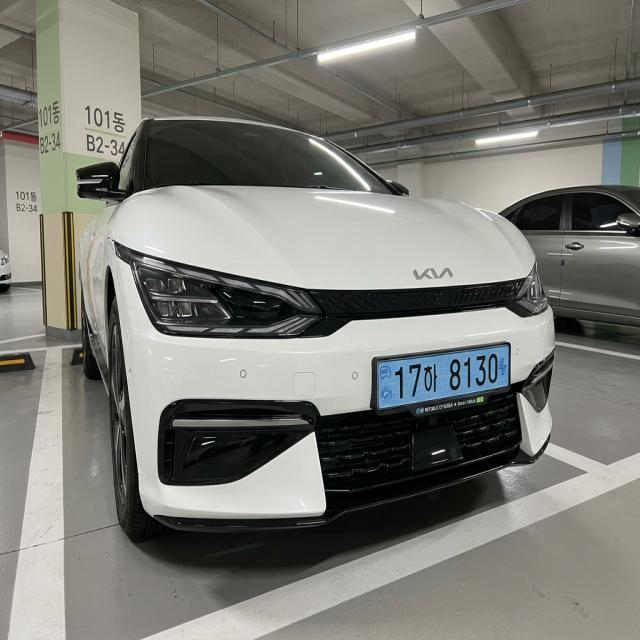car: (355, 328, 535, 440)
carev: (376, 361, 395, 409), (498, 345, 513, 396)
